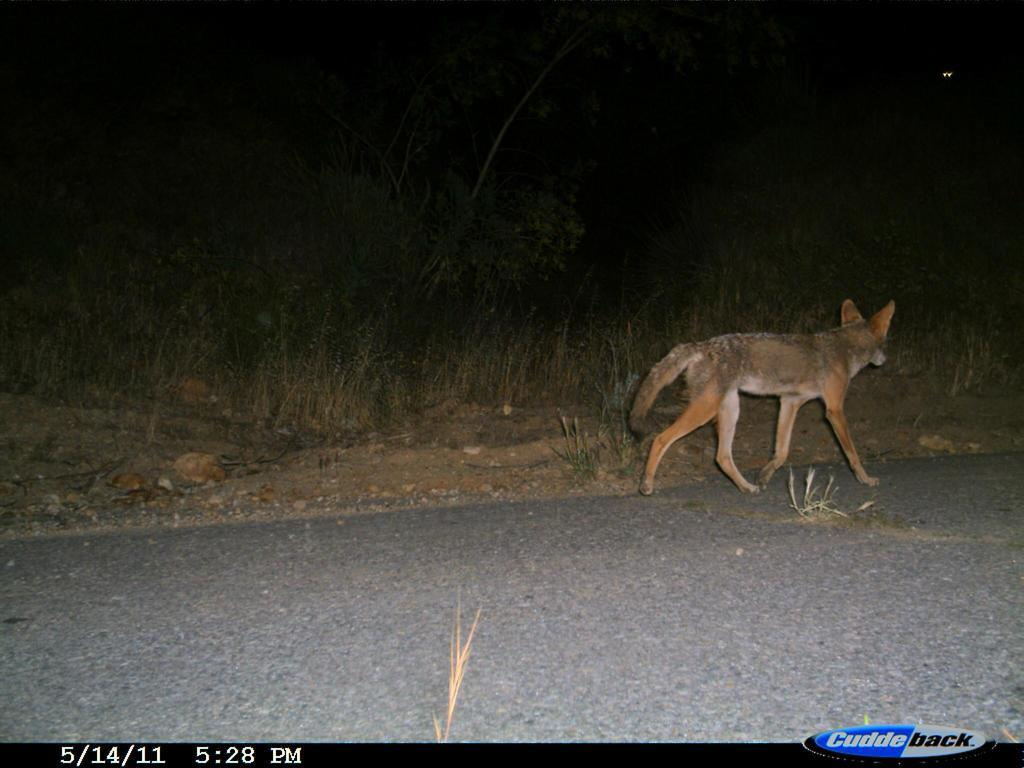coyote: (621, 295, 899, 506)
